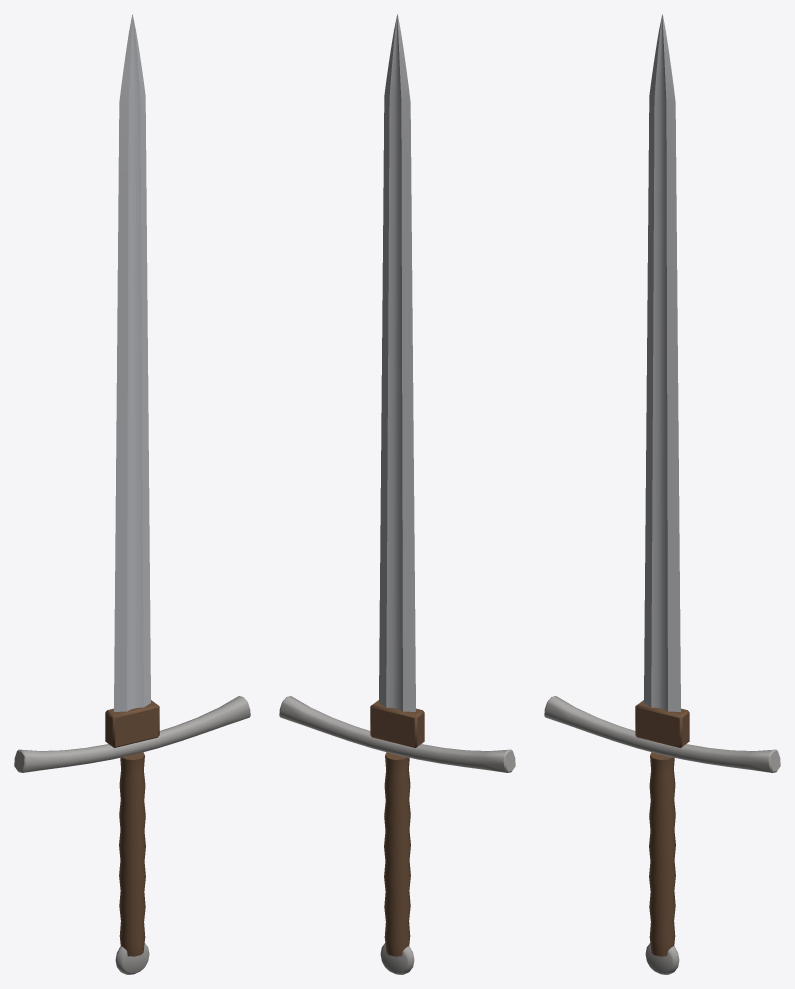
File: oathkeeper_greatsword.glb
3 views of the same model, side by side, from view 1: azimuth 30°, elevation 25°; view 2: azimuth 150°, elevation 25°; view 3: azimuth 330°, elevation 25° (orthographic).
Visible parts, largest first — view 1: oathkeeper_greatsword; view 2: oathkeeper_greatsword; view 3: oathkeeper_greatsword.
Boxes of the visible parts, <box> form: oathkeeper_greatsword: <box>14,14,250,974</box>; oathkeeper_greatsword: <box>279,14,515,974</box>; oathkeeper_greatsword: <box>544,14,780,974</box>.
Size of the model in its own units: 0.3656 by 1.46 by 0.0356.
